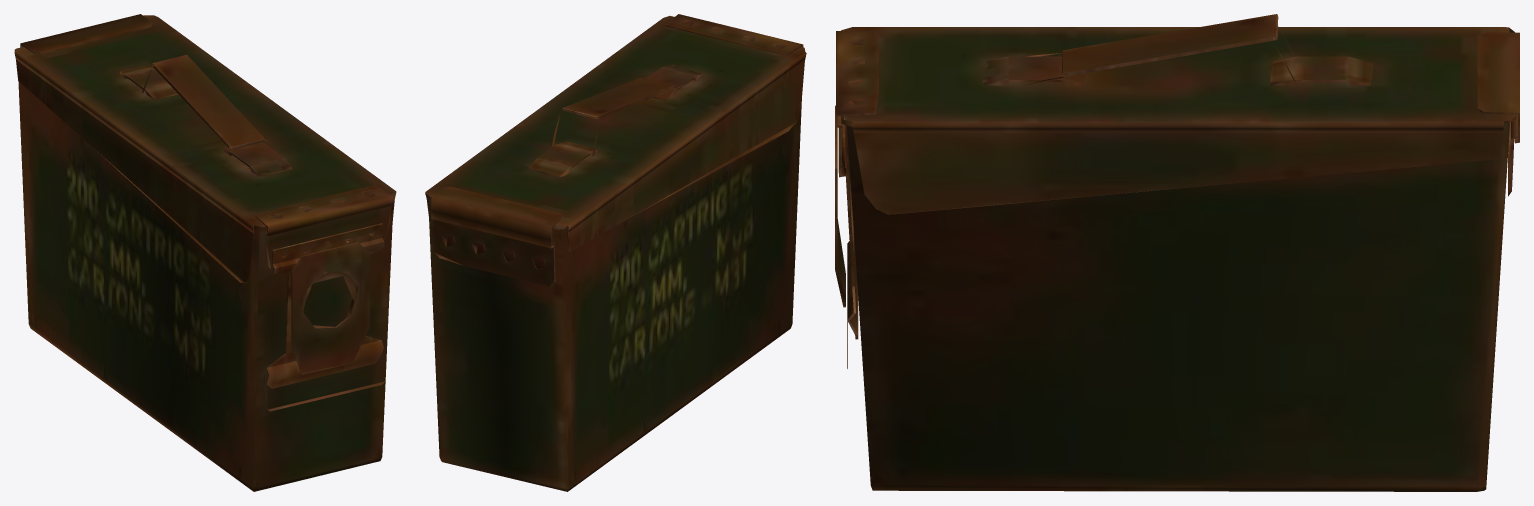
Rendered from ammo_box.glb.
3 renders of one model, left to right at view 1: azimuth 30°, elevation 25°; view 2: azimuth 150°, elevation 25°; view 3: azimuth 270°, elevation 25°, orthographic. The views are drawn at different scales.
Parts seen in each view (by area): view 1: ammo_box_handle_ring_b; view 2: ammo_box_handle_ring_b; view 3: ammo_box_handle_ring_b.
Boxes of the visible parts, x1=… form: ammo_box_handle_ring_b: x1=14, y1=14, x2=396, y2=491; ammo_box_handle_ring_b: x1=425, y1=14, x2=806, y2=491; ammo_box_handle_ring_b: x1=835, y1=14, x2=1519, y2=491.
Size of the model in its own units: 0.0855 by 0.1757 by 0.2576.
Materials: 1 (1 with a texture image).
